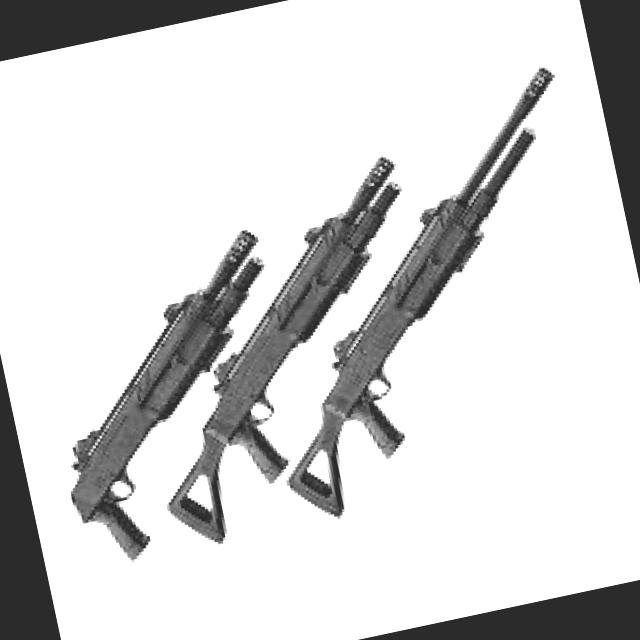long weapon: (275, 71, 584, 520), (147, 142, 439, 554), (30, 204, 273, 581)
